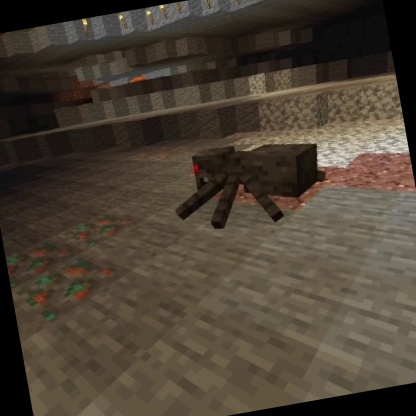spider: (160, 124, 337, 245)
